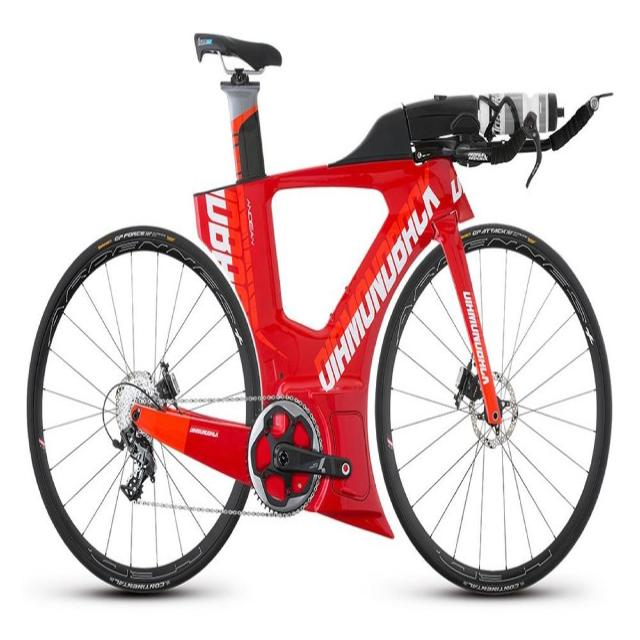TT-bike: (26, 31, 614, 602)
